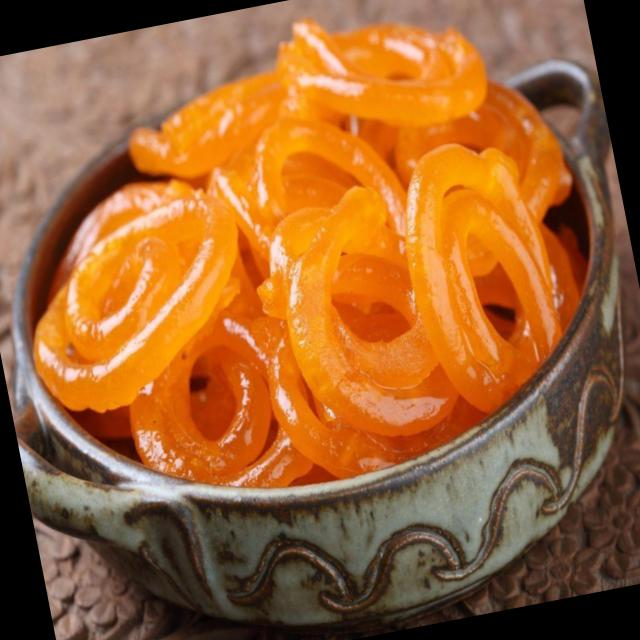jalebi: (0, 0, 629, 513)
